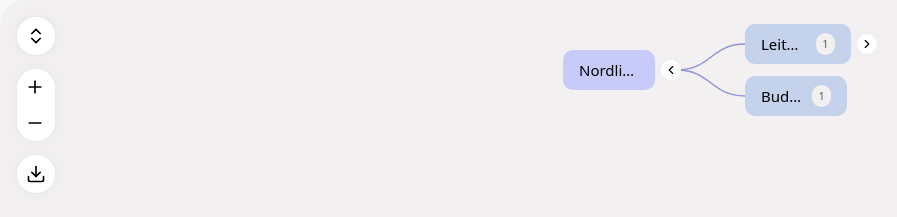
Test case: MindmapView › closes the whole map at the topic
Click the button named "„Nordlicht“ zuklappen" at {"x": 671, "y": 70}, box [661, 60, 681, 80]
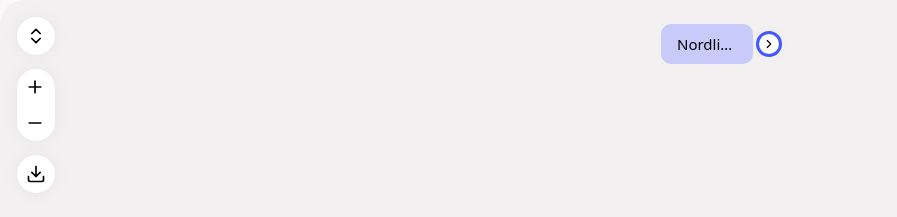
Now the text "Leitung" is gone
Now the button named "„Nordlicht“ aufklappen" is shown, box [759, 34, 779, 54]
